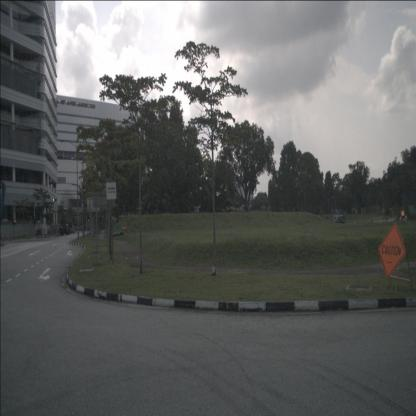vehicle-car: (60, 224, 69, 235), (70, 226, 75, 233)
vehicle-truck: (333, 215, 346, 224)
